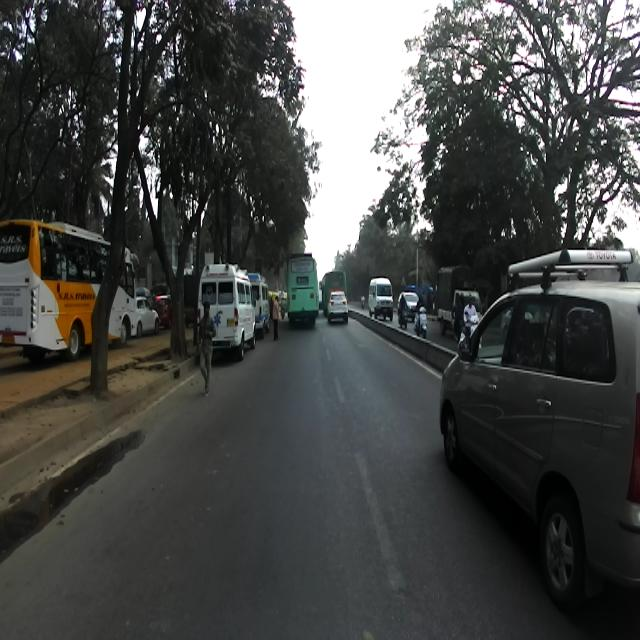car ahead at: (436, 251, 640, 618)
person ahead at: (196, 296, 217, 395)
tree ahead at: (87, 8, 150, 404)
